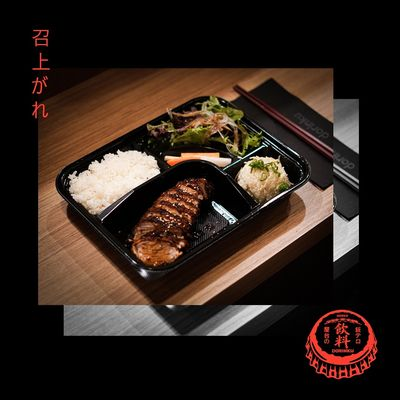salad: (222, 144, 268, 175)
